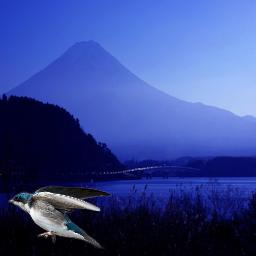Swallow: (8, 185, 112, 249)
